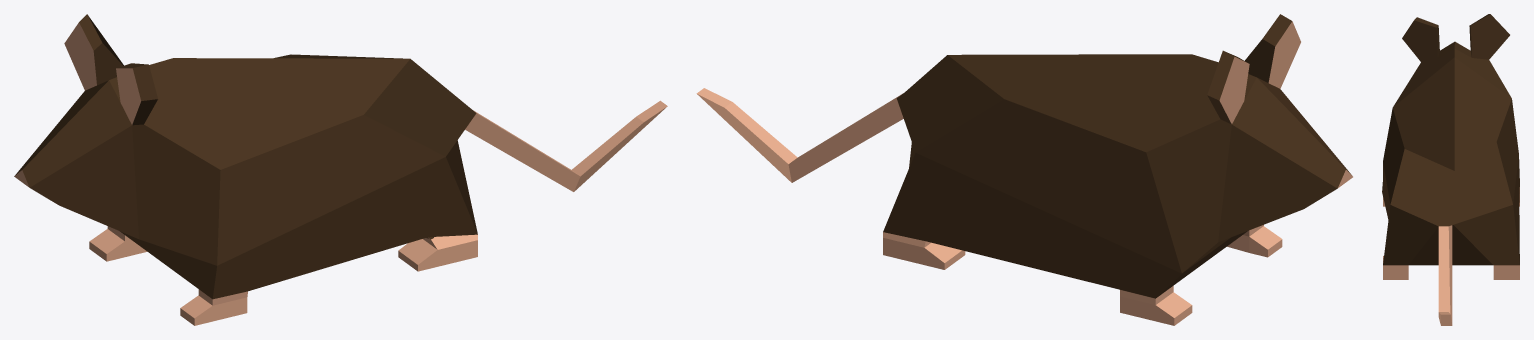
The model's file is rat.fbx.
The picture shows the model from 3 angles, left to right: view 1: azimuth 30°, elevation 25°; view 2: azimuth 150°, elevation 25°; view 3: azimuth 270°, elevation 25°; orthographic projection. The views are drawn at different scales.
Visible parts, largest first — view 1: Rat; view 2: Rat; view 3: Rat.
Part boxes in pixels (bbox=[...]): Rat: bbox=[14, 14, 667, 325]; Rat: bbox=[696, 14, 1352, 325]; Rat: bbox=[1382, 14, 1519, 325].
Size of the model in its own units: 317 by 124 by 91.59.
